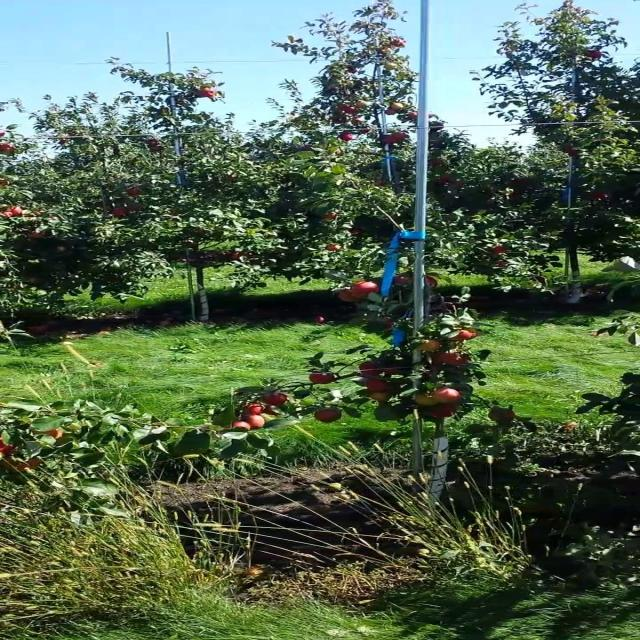apple: (433, 388, 462, 404), (440, 352, 469, 366), (433, 352, 462, 366), (340, 288, 364, 304), (13, 460, 43, 472), (355, 284, 380, 297), (355, 284, 377, 297), (262, 396, 290, 406), (319, 412, 341, 424), (369, 380, 391, 392), (419, 340, 441, 352), (42, 428, 64, 440), (490, 412, 519, 421), (433, 408, 455, 419), (369, 392, 391, 403), (419, 396, 439, 408), (362, 364, 382, 376), (248, 416, 268, 428), (454, 332, 475, 341), (248, 404, 263, 416), (312, 376, 334, 384), (426, 276, 441, 287), (6, 442, 18, 455), (461, 332, 480, 340), (454, 332, 469, 342), (383, 320, 398, 329), (383, 368, 398, 376), (262, 408, 277, 416), (397, 276, 409, 284), (234, 424, 249, 430)
